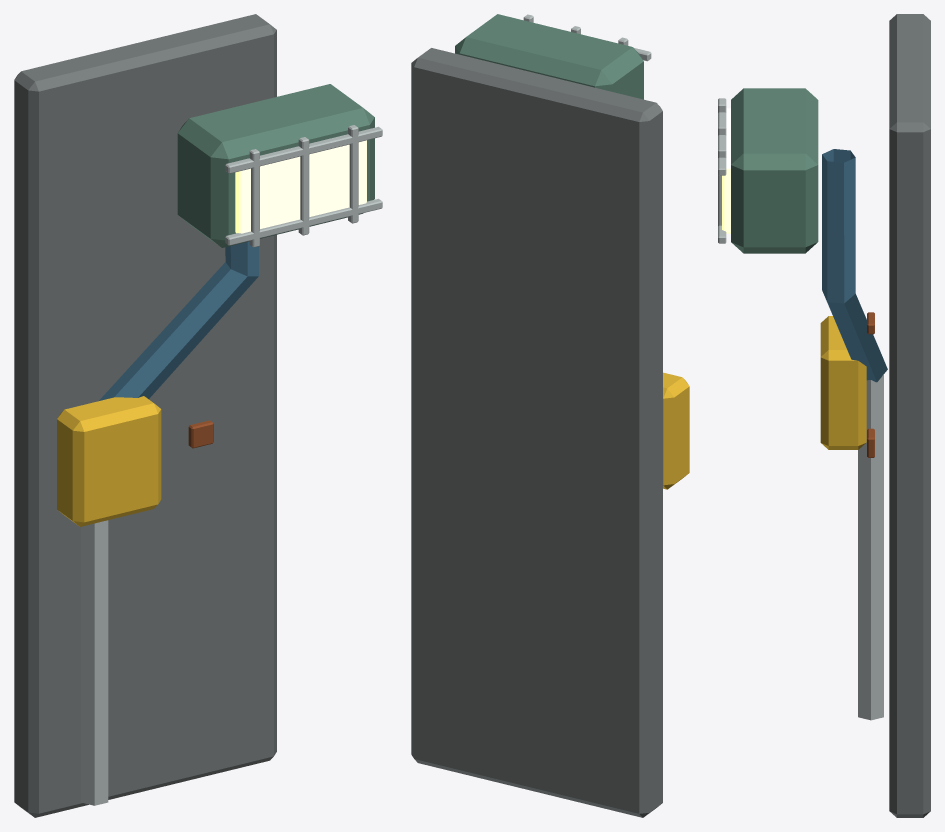
The model's file is runtime.glb.
3 views of the same model, side by side, from view 1: azimuth 30°, elevation 25°; view 2: azimuth 150°, elevation 25°; view 3: azimuth 270°, elevation 25° (orthographic). The views are drawn at different scales.
Visible parts, largest first — view 1: reactor-maintenance-light-v10_nocol; view 2: reactor-maintenance-light-v10_nocol; view 3: reactor-maintenance-light-v10_nocol.
Boxes of the visible parts, x1,y1,x2,y2 form: reactor-maintenance-light-v10_nocol: (14,14,382,817); reactor-maintenance-light-v10_nocol: (411,14,689,817); reactor-maintenance-light-v10_nocol: (718,14,930,817).
Bounding box in the file's own units: 1.26 × 3.34 × 0.9255.
